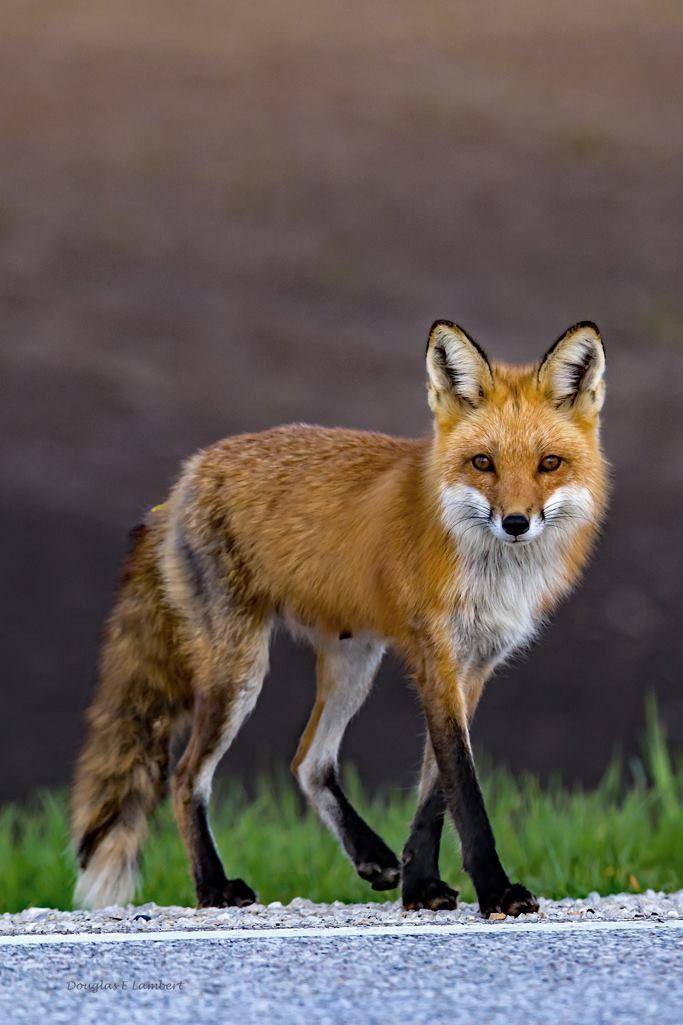fox: (40, 311, 637, 937)
